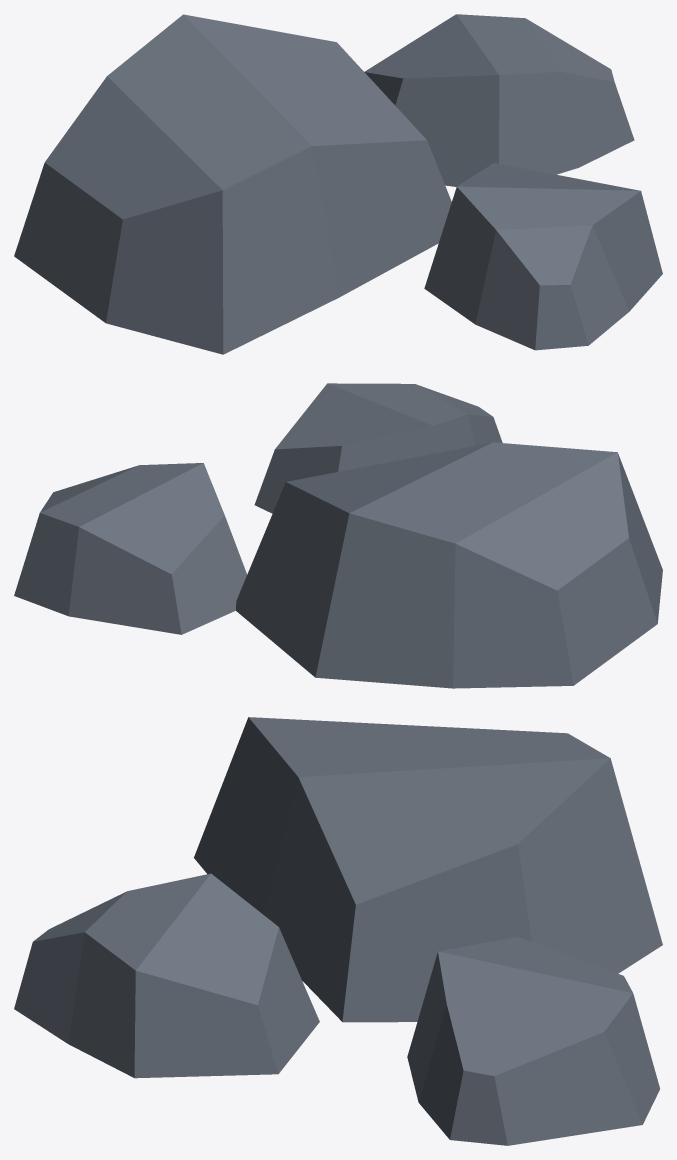
File: Rock_3.glb
3 views of the same model, one above another, from view 1: azimuth 30°, elevation 25°; view 2: azimuth 150°, elevation 25°; view 3: azimuth 270°, elevation 25° (orthographic). The views are drawn at different scales.
Parts seen in each view (by area): view 1: Rock_3; view 2: Rock_3; view 3: Rock_3.
Boxes of the visible parts, box(x1,y1,x2,y2) form: Rock_3: box(14, 14, 662, 354); Rock_3: box(14, 383, 662, 688); Rock_3: box(14, 717, 662, 1145).
Size of the model in its own units: 0.3037 by 0.0801 by 0.2619.
